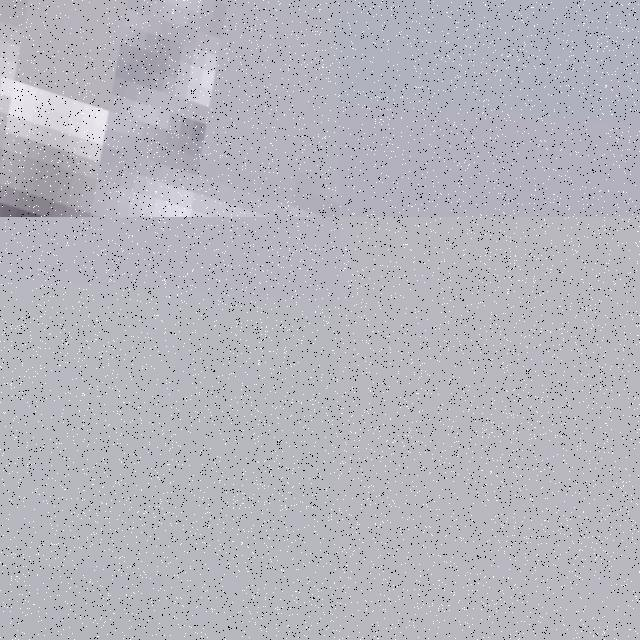drone: (0, 0, 339, 217)
